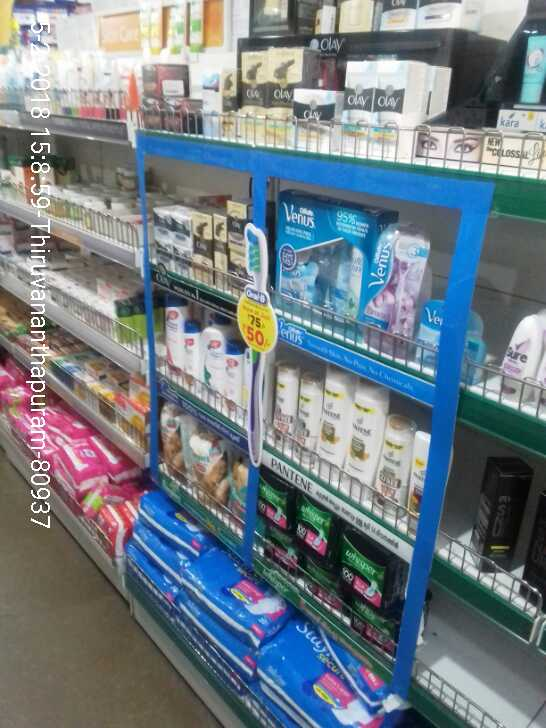venus: (275, 212, 370, 320), (369, 228, 417, 356), (421, 312, 481, 366)
